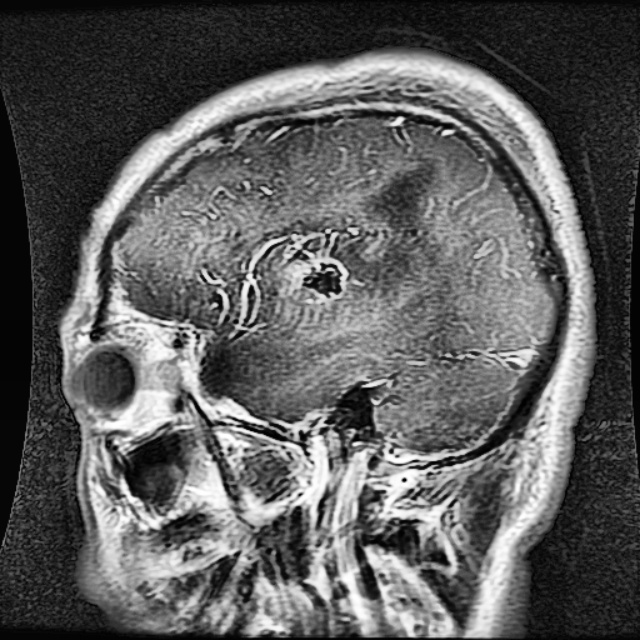Meningioma: (297, 260, 345, 297)
